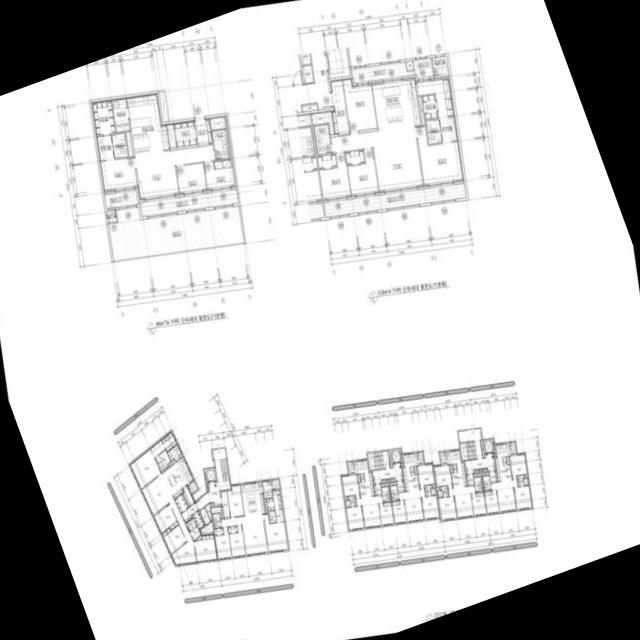background: (0, 0, 640, 640)
space_balconi: (104, 189, 238, 216), (351, 62, 414, 83), (413, 58, 433, 78), (187, 480, 197, 494), (271, 479, 279, 489)
space_bedroom: (416, 125, 463, 186), (342, 78, 377, 132), (319, 152, 350, 200), (347, 148, 378, 196), (99, 157, 137, 192), (129, 448, 161, 489), (203, 159, 236, 190), (263, 514, 288, 552), (176, 163, 206, 194), (153, 504, 178, 533), (161, 525, 186, 554), (194, 534, 217, 562), (226, 484, 243, 517), (229, 525, 245, 557), (215, 527, 231, 559), (417, 463, 435, 489), (509, 453, 527, 479), (513, 486, 532, 510), (433, 464, 452, 488), (345, 506, 364, 530), (341, 474, 360, 498), (438, 496, 456, 520), (421, 495, 439, 519), (484, 490, 499, 514), (471, 492, 486, 516), (378, 502, 393, 525), (391, 500, 406, 523), (345, 150, 364, 165), (317, 154, 336, 168), (214, 528, 223, 535), (228, 526, 237, 533)
space_dressroom: (416, 77, 454, 117), (91, 100, 115, 135), (439, 116, 458, 142), (421, 94, 437, 119), (161, 431, 177, 452), (272, 490, 282, 509), (266, 498, 274, 510)
space_elevator: (325, 48, 350, 78), (483, 439, 495, 454), (390, 449, 402, 463), (204, 468, 216, 482)
space_elevator_hall: (292, 51, 331, 113), (195, 448, 230, 510), (458, 428, 495, 473), (372, 451, 402, 483)
space_front: (330, 79, 349, 134), (194, 118, 212, 144), (181, 503, 198, 522), (220, 491, 230, 518), (175, 494, 188, 513), (192, 510, 205, 529), (397, 480, 405, 492), (373, 484, 381, 495), (489, 471, 497, 482), (466, 474, 474, 485)
space_kitchen: (126, 93, 169, 155), (372, 77, 420, 130), (162, 456, 193, 498), (240, 482, 265, 516), (353, 459, 374, 498), (445, 449, 466, 488), (494, 442, 512, 482), (402, 452, 419, 491)
space_living_room: (331, 127, 422, 192), (141, 474, 196, 565), (134, 144, 214, 200), (221, 514, 268, 555), (448, 485, 475, 518), (398, 489, 425, 522), (356, 495, 382, 528), (491, 479, 517, 512)
space_multipurpose_space: (111, 98, 129, 132)
space_other: (173, 120, 196, 147), (311, 111, 334, 134), (158, 91, 168, 122), (182, 485, 194, 507), (166, 123, 176, 148), (167, 444, 181, 461), (302, 65, 313, 83), (210, 116, 225, 129), (200, 507, 210, 525), (262, 480, 272, 498), (125, 132, 132, 156), (201, 521, 213, 533), (300, 53, 311, 65), (211, 506, 222, 518), (204, 503, 211, 521), (302, 104, 317, 112), (388, 450, 392, 467), (480, 441, 484, 457), (406, 61, 413, 70), (168, 459, 175, 466), (264, 499, 267, 513), (195, 535, 201, 540), (389, 481, 396, 485), (450, 464, 453, 472), (481, 472, 489, 475), (414, 466, 417, 474), (506, 456, 509, 464), (357, 474, 360, 482), (380, 483, 388, 486), (473, 473, 480, 476), (258, 481, 262, 486), (206, 483, 208, 491), (179, 453, 182, 458), (390, 478, 395, 481), (210, 503, 214, 506), (381, 479, 385, 482), (344, 496, 347, 500), (483, 468, 487, 471), (432, 484, 435, 487), (525, 474, 528, 477), (436, 487, 439, 490), (478, 469, 482, 471), (474, 470, 478, 472), (386, 479, 390, 481), (401, 463, 403, 465), (493, 454, 495, 456)
space_outdoor_room: (431, 56, 449, 77), (106, 210, 116, 223), (417, 451, 424, 464), (347, 461, 354, 474), (440, 451, 446, 464), (510, 442, 516, 454)
space_staircase: (367, 451, 384, 470), (460, 442, 477, 460), (220, 459, 229, 481)
space_toilet: (95, 133, 128, 160), (314, 124, 331, 154), (212, 129, 229, 159), (155, 450, 170, 472), (150, 440, 165, 457), (427, 131, 442, 144), (425, 119, 440, 132), (190, 526, 200, 540), (482, 475, 491, 490), (381, 486, 390, 501), (212, 513, 221, 528), (390, 485, 398, 500), (474, 477, 482, 491), (275, 509, 283, 522), (347, 495, 356, 506), (440, 486, 448, 497), (424, 485, 432, 496), (517, 475, 524, 486), (186, 520, 193, 531), (189, 518, 196, 528), (268, 510, 275, 517), (269, 516, 276, 523), (438, 490, 443, 497), (523, 478, 528, 485), (430, 488, 435, 495), (345, 500, 350, 507)
